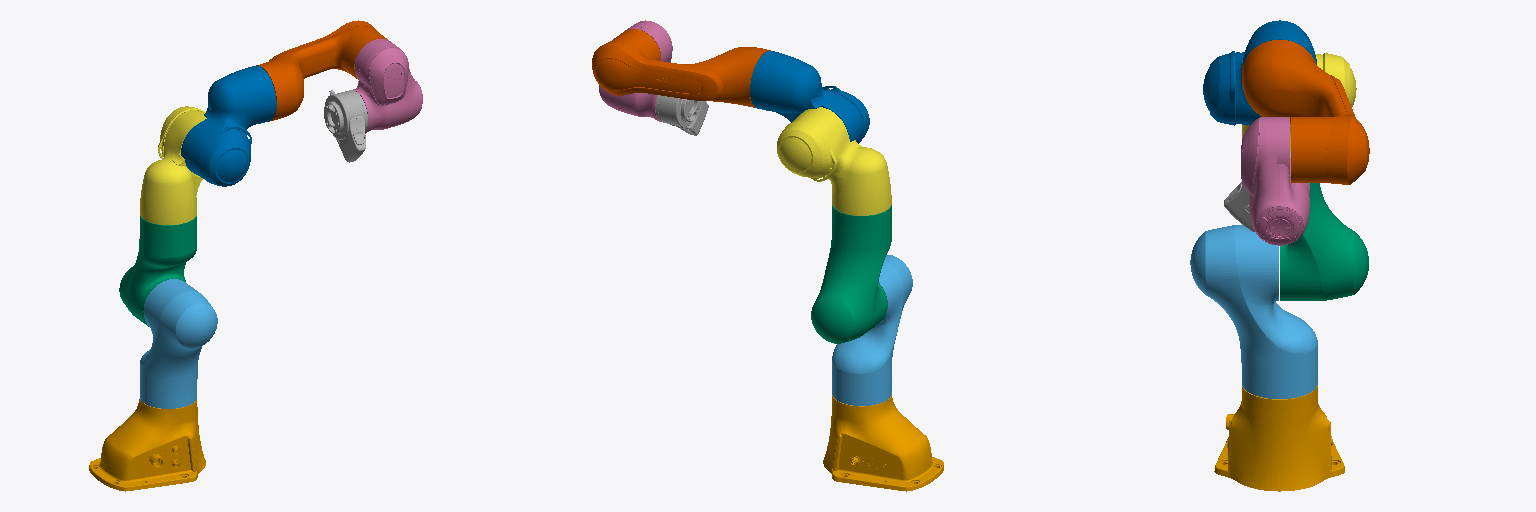
The robot description file, URDF, robot "panda":
<?xml version="1.0" ?>
<!-- =================================================================================== -->
<!-- |    This document was autogenerated by xacro from panda.urdf.xacro               | -->
<!-- |    EDITING THIS FILE BY HAND IS NOT RECOMMENDED                                 | -->
<!-- =================================================================================== -->
<robot name="panda">
  <!-- <link name="world" />
    <xacro:unless value="${not connected_to}">
      <joint name="virtual_joint" type="fixed">
        <parent link="${connected_to}"/>
        <child link="${arm_id}_link0"/>
        <origin rpy="${rpy}" xyz="${xyz}"/>
        <dynamics damping="1.0"/>
      </joint>
    </xacro:unless> -->
  <!-- PARAMETERS TO SET BY HAND -->
  <!-- END OF PARAMETERS TO SET BY HAND -->
  <!-- original working mesh links -->
  <!--    <xacro:arm_link number="0" visual_mesh="package://${mesh_folder}/visual/link0.dae"-->
  <!--      collision_mesh="package://${mesh_folder}/collision/link0.stl" mass="3.06"/>-->
  <!--    <xacro:arm_link number="1" visual_mesh="package://${mesh_folder}/visual/link1.dae"-->
  <!--      collision_mesh="package://${mesh_folder}/collision/link1.stl" mass="2.34"/>-->
  <!--    <xacro:arm_link number="2" visual_mesh="package://${mesh_folder}/visual/link2.dae"-->
  <!--      collision_mesh="package://${mesh_folder}/collision/link2.stl" mass="2.36"/>-->
  <!--    <xacro:arm_link number="3" visual_mesh="package://${mesh_folder}/visual/link3.dae"-->
  <!--      collision_mesh="package://${mesh_folder}/collision/link3.stl" mass="2.38"/>-->
  <!--    <xacro:arm_link number="4" visual_mesh="package://${mesh_folder}/visual/link4.dae"-->
  <!--      collision_mesh="package://${mesh_folder}/collision/link4.stl" mass="2.43"/>-->
  <!--    <xacro:arm_link number="5" visual_mesh="package://${mesh_folder}/visual/link5.dae"-->
  <!--      collision_mesh="package://${mesh_folder}/collision/link5.stl" mass="3.5"/>-->
  <!--    <xacro:arm_link number="6" visual_mesh="package://${mesh_folder}/visual/link6.dae"-->
  <!--      collision_mesh="package://${mesh_folder}/collision/link6.stl" mass="1.47"/>-->
  <!--    <xacro:arm_link number="7" visual_mesh="package://${mesh_folder}/visual/link7.dae"-->
  <!--      collision_mesh="package://${mesh_folder}/collision/link7.stl" mass="0.45"/>-->
  <!--     <xacro:arm_link number="8"/>-->
  <link name="panda_link0">
    <visual>
      <geometry>
        <mesh filename="package://gripper_description/meshes_panda/panda visual link0.stl"/>
      </geometry>
    </visual>
    <collision>
      <geometry>
        <mesh filename="package://gripper_description/meshes_panda/panda collision link0.stl"/>
      </geometry>
    </collision>
    <inertial>
      <origin rpy="0 0 0" xyz="0 0 0"/>
      <mass value="3.06"/>
      <inertia ixx="0.3" ixy="0.0" ixz="0.0" iyy="0.3" iyz="0.0" izz="0.3"/>
    </inertial>
  </link>
  <link name="panda_link1">
    <visual>
      <geometry>
        <mesh filename="package://gripper_description/meshes_panda/panda visual link1.stl"/>
      </geometry>
    </visual>
    <collision>
      <geometry>
        <mesh filename="package://gripper_description/meshes_panda/panda collision link1.stl"/>
      </geometry>
    </collision>
    <inertial>
      <origin rpy="0 0 0" xyz="0 0 0"/>
      <mass value="2.34"/>
      <inertia ixx="7.0337e-01" ixy="-1.3900e-04" ixz="6.7720e-03" iyy="7.0661e-01" iyz="1.9169e-02" izz="9.1170e-03"/>
    </inertial>
  </link>
  <link name="panda_link2">
    <visual>
      <geometry>
        <mesh filename="package://gripper_description/meshes_panda/panda visual link2.stl"/>
      </geometry>
    </visual>
    <collision>
      <geometry>
        <mesh filename="package://gripper_description/meshes_panda/panda collision link2.stl"/>
      </geometry>
    </collision>
    <inertial>
      <origin rpy="0 0 0" xyz="0 0 0"/>
      <mass value="2.36"/>
      <inertia ixx="7.9620e-03" ixy="-3.9250e-03" ixz="1.0254e-02" iyy="2.8110e-02" iyz="7.0400e-04" izz="2.5995e-02"/>
    </inertial>
  </link>
  <link name="panda_link3">
    <visual>
      <geometry>
        <mesh filename="package://gripper_description/meshes_panda/panda visual link3.stl"/>
      </geometry>
    </visual>
    <collision>
      <geometry>
        <mesh filename="package://gripper_description/meshes_panda/panda collision link3.stl"/>
      </geometry>
    </collision>
    <inertial>
      <origin rpy="0 0 0" xyz="0 0 0"/>
      <mass value="2.38"/>
      <inertia ixx="3.7242e-02" ixy="-4.7610e-03" ixz="-1.1396e-02" iyy="3.6155e-02" iyz="-1.2805e-02" izz="1.0830e-02"/>
    </inertial>
  </link>
  <link name="panda_link4">
    <visual>
      <geometry>
        <mesh filename="package://gripper_description/meshes_panda/panda visual link4.stl"/>
      </geometry>
    </visual>
    <collision>
      <geometry>
        <mesh filename="package://gripper_description/meshes_panda/panda collision link4.stl"/>
      </geometry>
    </collision>
    <inertial>
      <origin rpy="0 0 0" xyz="0 0 0"/>
      <mass value="2.43"/>
      <inertia ixx="2.5853e-02" ixy="7.7960e-03" ixz="-1.3320e-03" iyy="1.9552e-02" iyz="8.6410e-03" izz="2.8323e-02"/>
    </inertial>
  </link>
  <link name="panda_link5">
    <visual>
      <geometry>
        <mesh filename="package://gripper_description/meshes_panda/panda visual link5.stl"/>
      </geometry>
    </visual>
    <collision>
      <geometry>
        <mesh filename="package://gripper_description/meshes_panda/panda collision link5.stl"/>
      </geometry>
    </collision>
    <inertial>
      <origin rpy="0 0 0" xyz="0 0 0"/>
      <mass value="3.5"/>
      <inertia ixx="3.5549e-02" ixy="-2.1170e-03" ixz="-4.0370e-03" iyy="2.9474e-02" iyz="2.2900e-04" izz="8.6270e-03"/>
    </inertial>
  </link>
  <link name="panda_link6">
    <visual>
      <geometry>
        <mesh filename="package://gripper_description/meshes_panda/panda visual link6.stl"/>
      </geometry>
    </visual>
    <collision>
      <geometry>
        <mesh filename="package://gripper_description/meshes_panda/panda collision link6.stl"/>
      </geometry>
    </collision>
    <inertial>
      <origin rpy="0 0 0" xyz="0 0 0"/>
      <mass value="1.47"/>
      <inertia ixx="1.9640e-03" ixy="1.0900e-04" ixz="-1.1580e-03" iyy="4.3540e-03" iyz="3.4100e-04" izz="5.4330e-03"/>
    </inertial>
  </link>
  <link name="panda_link7">
    <visual>
      <geometry>
        <mesh filename="package://gripper_description/meshes_panda/panda visual link7.stl"/>
      </geometry>
    </visual>
    <collision>
      <geometry>
        <mesh filename="package://gripper_description/meshes_panda/panda collision link7.stl"/>
      </geometry>
    </collision>
    <inertial>
      <origin rpy="0 0 0" xyz="0 0 0"/>
      <mass value="0.45"/>
      <inertia ixx="1.2516e-02" ixy="-4.2800e-04" ixz="-1.1960e-03" iyy="1.0027e-02" iyz="-7.4100e-04" izz="4.8150e-03"/>
    </inertial>
  </link>
  <link name="panda_link8">
    <inertial>
      <origin rpy="0 0 0" xyz="0 0 0"/>
      <mass value="0.0"/>
      <inertia ixx="1e-4" ixy="0.0" ixz="0.0" iyy="1e-4" iyz="0.0" izz="1e-4"/>
    </inertial>
  </link>
  <!-- joint6 limit lower = -0.0175 -->
  <joint name="panda_joint1" type="revolute">
    <safety_controller k_position="100.0" k_velocity="40.0" soft_lower_limit="-2.8973" soft_upper_limit="2.8973"/>
    <origin rpy="0 0 0" xyz="0 0 0.333"/>
    <parent link="panda_link0"/>
    <child link="panda_link1"/>
    <limit effort="87" lower="-2.8973" upper="2.8973" velocity="2.175"/>
    <axis xyz="0 0 1"/>
    <dynamics damping="1.0" friction="0.1"/>
  </joint>
  <joint name="panda_joint2" type="revolute">
    <safety_controller k_position="100.0" k_velocity="40.0" soft_lower_limit="-1.7628" soft_upper_limit="1.7628"/>
    <origin rpy="-1.5707963267948966 0 0" xyz="0 0 0"/>
    <parent link="panda_link1"/>
    <child link="panda_link2"/>
    <limit effort="87" lower="-1.7628" upper="1.7628" velocity="2.175"/>
    <axis xyz="0 0 1"/>
    <dynamics damping="1.0" friction="0.1"/>
  </joint>
  <joint name="panda_joint3" type="revolute">
    <safety_controller k_position="100.0" k_velocity="40.0" soft_lower_limit="-2.8973" soft_upper_limit="2.8973"/>
    <origin rpy="1.5707963267948966 0 0" xyz="0 -0.316 0"/>
    <parent link="panda_link2"/>
    <child link="panda_link3"/>
    <limit effort="87" lower="-2.8973" upper="2.8973" velocity="2.175"/>
    <axis xyz="0 0 1"/>
    <dynamics damping="1.0" friction="0.1"/>
  </joint>
  <joint name="panda_joint4" type="revolute">
    <safety_controller k_position="100.0" k_velocity="40.0" soft_lower_limit="-3.0718" soft_upper_limit="-0.0698"/>
    <origin rpy="1.5707963267948966 0 0" xyz="0.0825 0 0"/>
    <parent link="panda_link3"/>
    <child link="panda_link4"/>
    <limit effort="87" lower="-3.0718" upper="-0.0698" velocity="2.175"/>
    <axis xyz="0 0 1"/>
    <dynamics damping="1.0" friction="0.1"/>
  </joint>
  <joint name="panda_joint5" type="revolute">
    <safety_controller k_position="100.0" k_velocity="40.0" soft_lower_limit="-2.8973" soft_upper_limit="2.8973"/>
    <origin rpy="-1.5707963267948966 0 0" xyz="-0.0825 0.384 0"/>
    <parent link="panda_link4"/>
    <child link="panda_link5"/>
    <limit effort="12" lower="-2.8973" upper="2.8973" velocity="2.61"/>
    <axis xyz="0 0 1"/>
    <dynamics damping="1.0" friction="0.1"/>
  </joint>
  <joint name="panda_joint6" type="revolute">
    <safety_controller k_position="100.0" k_velocity="40.0" soft_lower_limit="-0.0175" soft_upper_limit="3.7525"/>
    <origin rpy="1.5707963267948966 0 0" xyz="0 0 0"/>
    <parent link="panda_link5"/>
    <child link="panda_link6"/>
    <limit effort="12" lower="-0.0175" upper="3.7525" velocity="2.61"/>
    <axis xyz="0 0 1"/>
    <dynamics damping="1.0" friction="0.1"/>
  </joint>
  <joint name="panda_joint7" type="revolute">
    <safety_controller k_position="100.0" k_velocity="40.0" soft_lower_limit="-2.8973" soft_upper_limit="2.8973"/>
    <origin rpy="1.5707963267948966 0 0" xyz="0.088 0 0"/>
    <parent link="panda_link6"/>
    <child link="panda_link7"/>
    <limit effort="12" lower="-2.8973" upper="2.8973" velocity="2.61"/>
    <axis xyz="0 0 1"/>
    <dynamics damping="1.0" friction="0.1"/>
  </joint>
  <joint name="panda_joint8" type="fixed">
    <origin rpy="0 0 0" xyz="0 0 0.107"/>
    <parent link="panda_link7"/>
    <child link="panda_link8"/>
    <axis xyz="0 0 0"/>
    <dynamics damping="1.0" friction="0.1"/>
  </joint>
  <gazebo reference="panda_link0">
    <material>Gazebo/White</material>
    <mu1>0.2</mu1>
    <mu2>0.2</mu2>
  </gazebo>
  <gazebo reference="panda_link1">
    <material>Gazebo/White</material>
    <mu1>0.2</mu1>
    <mu2>0.2</mu2>
  </gazebo>
  <gazebo reference="panda_link2">
    <material>Gazebo/White</material>
    <mu1>0.2</mu1>
    <mu2>0.2</mu2>
  </gazebo>
  <gazebo reference="panda_link3">
    <material>Gazebo/White</material>
    <mu1>0.2</mu1>
    <mu2>0.2</mu2>
  </gazebo>
  <gazebo reference="panda_link4">
    <material>Gazebo/White</material>
    <mu1>0.2</mu1>
    <mu2>0.2</mu2>
  </gazebo>
  <gazebo reference="panda_link5">
    <material>Gazebo/White</material>
    <mu1>0.2</mu1>
    <mu2>0.2</mu2>
  </gazebo>
  <gazebo reference="panda_link6">
    <material>Gazebo/White</material>
    <mu1>0.2</mu1>
    <mu2>0.2</mu2>
  </gazebo>
  <gazebo reference="gripper_base_link">
    <material>Gazebo/Grey</material>
    <mu1>0.2</mu1>
    <mu2>0.2</mu2>
  </gazebo>
  <gazebo reference="finger_1_intermediate">
    <material>Gazebo/Grey</material>
    <mu1>0.2</mu1>
    <mu2>0.2</mu2>
  </gazebo>
  <gazebo reference="finger_1">
    <material>Gazebo/Grey</material>
    <mu1>0.2</mu1>
    <mu2>0.2</mu2>
  </gazebo>
  <gazebo reference="finger_2_intermediate">
    <material>Gazebo/Grey</material>
    <mu1>0.2</mu1>
    <mu2>0.2</mu2>
  </gazebo>
  <gazebo reference="finger_2">
    <material>Gazebo/Grey</material>
    <mu1>0.2</mu1>
    <mu2>0.2</mu2>
  </gazebo>
  <gazebo reference="finger_3_intermediate">
    <material>Gazebo/Grey</material>
    <mu1>0.2</mu1>
    <mu2>0.2</mu2>
  </gazebo>
  <gazebo reference="finger_3">
    <material>Gazebo/Grey</material>
    <mu1>0.2</mu1>
    <mu2>0.2</mu2>
  </gazebo>
  <gazebo reference="palm">
    <material>Gazebo/Grey</material>
    <mu1>0.2</mu1>
    <mu2>0.2</mu2>
  </gazebo>
  <transmission name="panda_tran_1">
    <type>transmission_interface/SimpleTransmission</type>
    <joint name="panda_joint1">
      <!-- <hardwareInterface>hardware_interface/EffortJointInterface</hardwareInterface> -->
      <hardwareInterface>hardware_interface/PositionJointInterface</hardwareInterface>
    </joint>
    <actuator name="panda_motor_1">
      <!-- <hardwareInterface>hardware_interface/EffortJointInterface</hardwareInterface> -->
      <hardwareInterface>hardware_interface/PositionJointInterface</hardwareInterface>
      <mechanicalReduction>1</mechanicalReduction>
    </actuator>
  </transmission>
  <transmission name="panda_tran_2">
    <type>transmission_interface/SimpleTransmission</type>
    <joint name="panda_joint2">
      <!-- <hardwareInterface>hardware_interface/EffortJointInterface</hardwareInterface> -->
      <hardwareInterface>hardware_interface/PositionJointInterface</hardwareInterface>
    </joint>
    <actuator name="panda_motor_2">
      <!-- <hardwareInterface>hardware_interface/EffortJointInterface</hardwareInterface> -->
      <hardwareInterface>hardware_interface/PositionJointInterface</hardwareInterface>
      <mechanicalReduction>1</mechanicalReduction>
    </actuator>
  </transmission>
  <transmission name="panda_tran_3">
    <type>transmission_interface/SimpleTransmission</type>
    <joint name="panda_joint3">
      <!-- <hardwareInterface>hardware_interface/EffortJointInterface</hardwareInterface> -->
      <hardwareInterface>hardware_interface/PositionJointInterface</hardwareInterface>
    </joint>
    <actuator name="panda_motor_3">
      <!-- <hardwareInterface>hardware_interface/EffortJointInterface</hardwareInterface> -->
      <hardwareInterface>hardware_interface/PositionJointInterface</hardwareInterface>
      <mechanicalReduction>1</mechanicalReduction>
    </actuator>
  </transmission>
  <transmission name="panda_tran_4">
    <type>transmission_interface/SimpleTransmission</type>
    <joint name="panda_joint4">
      <!-- <hardwareInterface>hardware_interface/EffortJointInterface</hardwareInterface> -->
      <hardwareInterface>hardware_interface/PositionJointInterface</hardwareInterface>
    </joint>
    <actuator name="panda_motor_4">
      <!-- <hardwareInterface>hardware_interface/EffortJointInterface</hardwareInterface> -->
      <hardwareInterface>hardware_interface/PositionJointInterface</hardwareInterface>
      <mechanicalReduction>1</mechanicalReduction>
    </actuator>
  </transmission>
  <transmission name="panda_tran_5">
    <type>transmission_interface/SimpleTransmission</type>
    <joint name="panda_joint5">
      <!-- <hardwareInterface>hardware_interface/EffortJointInterface</hardwareInterface> -->
      <hardwareInterface>hardware_interface/PositionJointInterface</hardwareInterface>
    </joint>
    <actuator name="panda_motor_5">
      <!-- <hardwareInterface>hardware_interface/EffortJointInterface</hardwareInterface> -->
      <hardwareInterface>hardware_interface/PositionJointInterface</hardwareInterface>
      <mechanicalReduction>1</mechanicalReduction>
    </actuator>
  </transmission>
  <transmission name="panda_tran_6">
    <type>transmission_interface/SimpleTransmission</type>
    <joint name="panda_joint6">
      <!-- <hardwareInterface>hardware_interface/EffortJointInterface</hardwareInterface> -->
      <hardwareInterface>hardware_interface/PositionJointInterface</hardwareInterface>
    </joint>
    <actuator name="panda_motor_6">
      <!-- <hardwareInterface>hardware_interface/EffortJointInterface</hardwareInterface> -->
      <hardwareInterface>hardware_interface/PositionJointInterface</hardwareInterface>
      <mechanicalReduction>1</mechanicalReduction>
    </actuator>
  </transmission>
  <transmission name="panda_tran_7">
    <type>transmission_interface/SimpleTransmission</type>
    <joint name="panda_joint7">
      <!-- <hardwareInterface>hardware_interface/EffortJointInterface</hardwareInterface> -->
      <hardwareInterface>hardware_interface/PositionJointInterface</hardwareInterface>
    </joint>
    <actuator name="panda_motor_7">
      <!-- <hardwareInterface>hardware_interface/EffortJointInterface</hardwareInterface> -->
      <hardwareInterface>hardware_interface/PositionJointInterface</hardwareInterface>
      <mechanicalReduction>1</mechanicalReduction>
    </actuator>
  </transmission>
  <transmission name="panda_tran_8">
    <type>transmission_interface/SimpleTransmission</type>
    <joint name="finger_1_revolute_joint">
      <!-- <hardwareInterface>hardware_interface/EffortJointInterface</hardwareInterface> -->
      <hardwareInterface>hardware_interface/PositionJointInterface</hardwareInterface>
    </joint>
    <actuator name="panda_motor_8">
      <!-- <hardwareInterface>hardware_interface/EffortJointInterface</hardwareInterface> -->
      <hardwareInterface>hardware_interface/PositionJointInterface</hardwareInterface>
      <mechanicalReduction>1</mechanicalReduction>
    </actuator>
  </transmission>
  <transmission name="panda_tran_9">
    <type>transmission_interface/SimpleTransmission</type>
    <joint name="finger_1_prismatic_joint">
      <!-- <hardwareInterface>hardware_interface/EffortJointInterface</hardwareInterface> -->
      <hardwareInterface>hardware_interface/PositionJointInterface</hardwareInterface>
    </joint>
    <actuator name="panda_motor_9">
      <!-- <hardwareInterface>hardware_interface/EffortJointInterface</hardwareInterface> -->
      <hardwareInterface>hardware_interface/PositionJointInterface</hardwareInterface>
      <mechanicalReduction>1</mechanicalReduction>
    </actuator>
  </transmission>
  <transmission name="panda_tran_10">
    <type>transmission_interface/SimpleTransmission</type>
    <joint name="finger_2_revolute_joint">
      <!-- <hardwareInterface>hardware_interface/EffortJointInterface</hardwareInterface> -->
      <hardwareInterface>hardware_interface/PositionJointInterface</hardwareInterface>
    </joint>
    <actuator name="panda_motor_10">
      <!-- <hardwareInterface>hardware_interface/EffortJointInterface</hardwareInterface> -->
      <hardwareInterface>hardware_interface/PositionJointInterface</hardwareInterface>
      <mechanicalReduction>1</mechanicalReduction>
    </actuator>
  </transmission>
  <transmission name="panda_tran_11">
    <type>transmission_interface/SimpleTransmission</type>
    <joint name="finger_2_prismatic_joint">
      <!-- <hardwareInterface>hardware_interface/EffortJointInterface</hardwareInterface> -->
      <hardwareInterface>hardware_interface/PositionJointInterface</hardwareInterface>
    </joint>
    <actuator name="panda_motor_11">
      <!-- <hardwareInterface>hardware_interface/EffortJointInterface</hardwareInterface> -->
      <hardwareInterface>hardware_interface/PositionJointInterface</hardwareInterface>
      <mechanicalReduction>1</mechanicalReduction>
    </actuator>
  </transmission>
  <transmission name="panda_tran_12">
    <type>transmission_interface/SimpleTransmission</type>
    <joint name="finger_3_revolute_joint">
      <!-- <hardwareInterface>hardware_interface/EffortJointInterface</hardwareInterface> -->
      <hardwareInterface>hardware_interface/PositionJointInterface</hardwareInterface>
    </joint>
    <actuator name="panda_motor_12">
      <!-- <hardwareInterface>hardware_interface/EffortJointInterface</hardwareInterface> -->
      <hardwareInterface>hardware_interface/PositionJointInterface</hardwareInterface>
      <mechanicalReduction>1</mechanicalReduction>
    </actuator>
  </transmission>
  <transmission name="panda_tran_13">
    <type>transmission_interface/SimpleTransmission</type>
    <joint name="finger_3_prismatic_joint">
      <!-- <hardwareInterface>hardware_interface/EffortJointInterface</hardwareInterface> -->
      <hardwareInterface>hardware_interface/PositionJointInterface</hardwareInterface>
    </joint>
    <actuator name="panda_motor_13">
      <!-- <hardwareInterface>hardware_interface/EffortJointInterface</hardwareInterface> -->
      <hardwareInterface>hardware_interface/PositionJointInterface</hardwareInterface>
      <mechanicalReduction>1</mechanicalReduction>
    </actuator>
  </transmission>
  <transmission name="panda_tran_14">
    <type>transmission_interface/SimpleTransmission</type>
    <joint name="palm_prismatic_joint">
      <!-- <hardwareInterface>hardware_interface/EffortJointInterface</hardwareInterface> -->
      <hardwareInterface>hardware_interface/PositionJointInterface</hardwareInterface>
    </joint>
    <actuator name="panda_motor_14">
      <!-- <hardwareInterface>hardware_interface/EffortJointInterface</hardwareInterface> -->
      <hardwareInterface>hardware_interface/PositionJointInterface</hardwareInterface>
      <mechanicalReduction>1</mechanicalReduction>
    </actuator>
  </transmission>
  <gazebo>
    <plugin filename="libgazebo_ros_control.so" name="gazebo_ros_control">
      <!--            	<robotNamespace>/gripper_controller</robotNamespace>-->
    </plugin>
  </gazebo>
  <!-- connect the panda to the ground -->
  <link name="world"/>
  <joint name="world_to_base" type="fixed">
    <origin rpy="0 0 0" xyz="0 0 0"/>
    <parent link="world"/>
    <child link="panda_link0"/>
  </joint>
</robot>

--- Facts derived from the render (not from the file) ---
Views: 3 orthographic renders of the robot side by side, from view 1: azimuth 30°, elevation 25°; view 2: azimuth 150°, elevation 25°; view 3: azimuth 270°, elevation 25°.
Model panda with 10 links and 9 joints (7 revolute, 2 fixed), rooted at world, posed all joints at 0 but 1 set to mid-range because 0 is outside their limits (panda_joint4 = -1.57).
Links seen in each view (by area): view 1: panda_link0, panda_link1, panda_link4, panda_link3, panda_link5, panda_link6, panda_link2, panda_link7; view 2: panda_link0, panda_link5, panda_link2, panda_link3, panda_link1, panda_link4, panda_link6, panda_link7; view 3: panda_link1, panda_link5, panda_link0, panda_link2, panda_link6, panda_link4, panda_link3, panda_link7.
Link boxes in pixels (x1,y1,x2,y2): panda_link0: (89, 399, 205, 491); panda_link1: (140, 279, 217, 408); panda_link4: (181, 66, 276, 186); panda_link3: (140, 106, 206, 224); panda_link5: (256, 20, 387, 121); panda_link6: (353, 39, 422, 133); panda_link2: (119, 216, 196, 326); panda_link7: (324, 90, 367, 162); panda_link0: (823, 395, 943, 491); panda_link5: (592, 29, 770, 107); panda_link2: (811, 205, 891, 343); panda_link3: (777, 107, 891, 215); panda_link1: (832, 255, 912, 405); panda_link4: (750, 51, 869, 143); panda_link6: (599, 20, 672, 121); panda_link7: (655, 95, 708, 135); panda_link1: (1190, 225, 1317, 398); panda_link5: (1242, 40, 1369, 184); panda_link0: (1214, 385, 1344, 491); panda_link2: (1280, 183, 1368, 300); panda_link6: (1241, 117, 1309, 245); panda_link4: (1203, 20, 1316, 125); panda_link3: (1242, 53, 1356, 150); panda_link7: (1224, 151, 1309, 231).
Bounding box of the posed robot: 0.7022 × 0.2593 × 0.7865 m (x, y, z).
Meshes: 8 distinct files referenced, 8 mesh visuals loaded (8 binary STL).